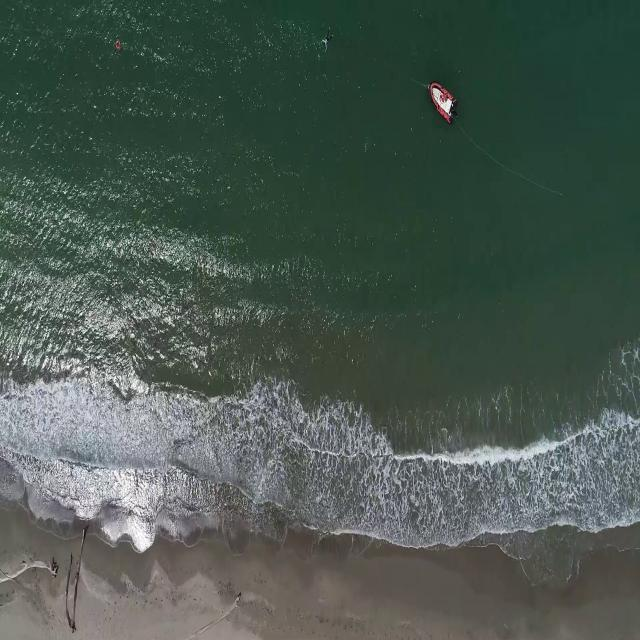boat: (429, 81, 456, 127)
life_buoy: (113, 41, 121, 53)
person: (321, 32, 334, 56)
wood: (176, 590, 243, 639), (66, 523, 88, 634), (0, 558, 63, 582)
